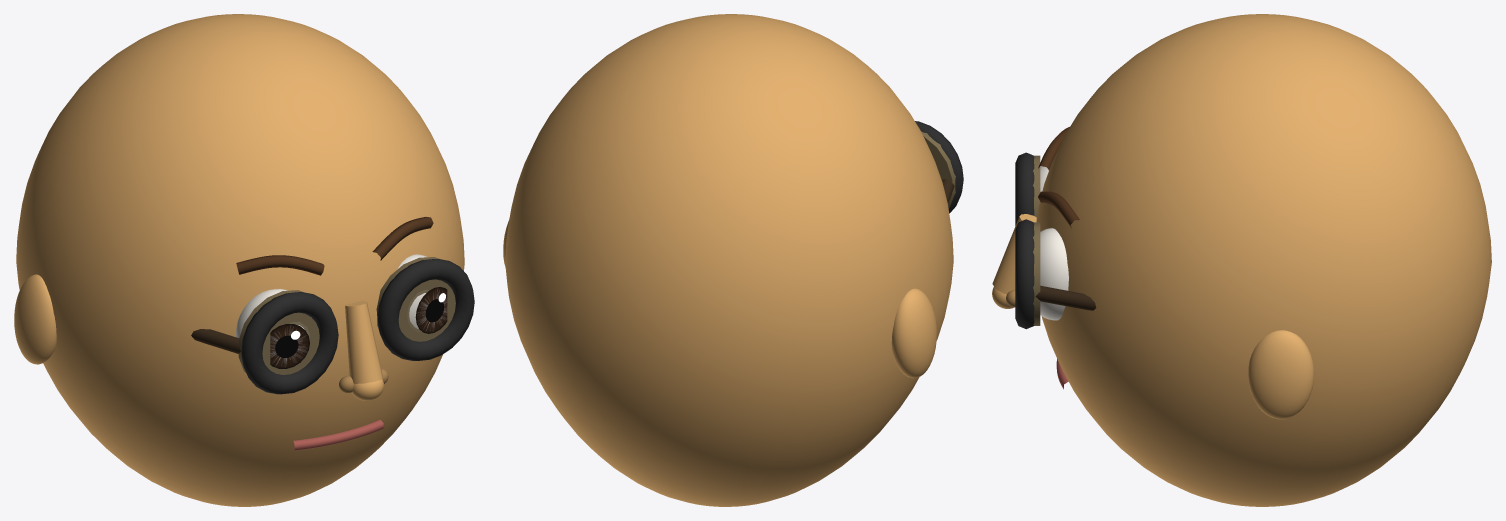
File: 09-soudeur.glb
3 views of the same model, side by side, from view 1: azimuth 30°, elevation 25°; view 2: azimuth 150°, elevation 25°; view 3: azimuth 270°, elevation 25° (orthographic).
Size of the model in its own units: 0.3087 by 0.321 by 0.3166.
Materials: 13 (1 with a texture image).
